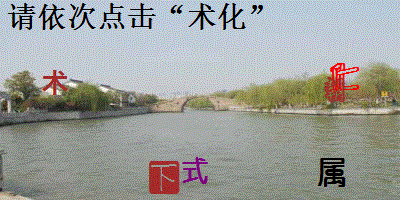text: (148, 159, 181, 196), (318, 157, 347, 190), (329, 62, 360, 91), (181, 156, 210, 186), (42, 68, 69, 96), (323, 76, 346, 102)
